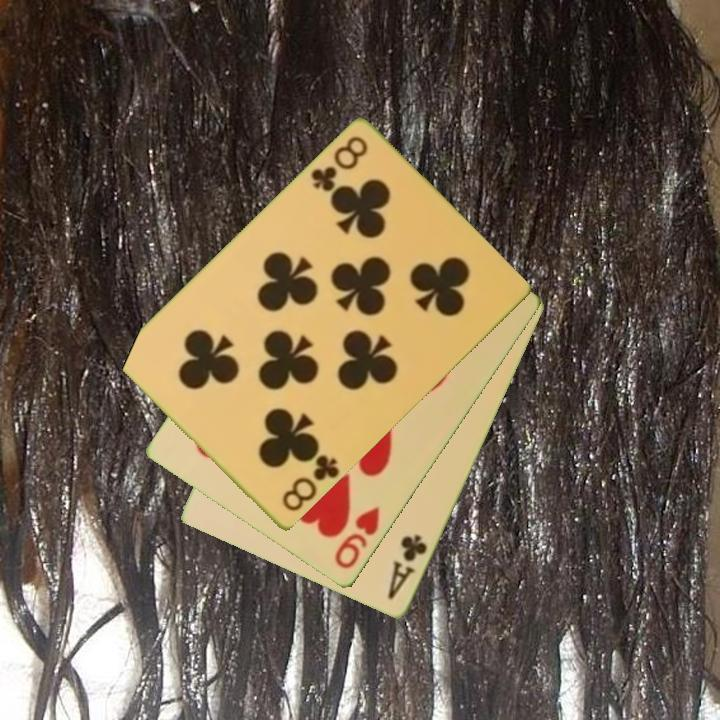8c: (278, 446, 343, 515), (307, 133, 371, 196)
9h: (331, 503, 383, 573)
Ac: (384, 531, 431, 603)
